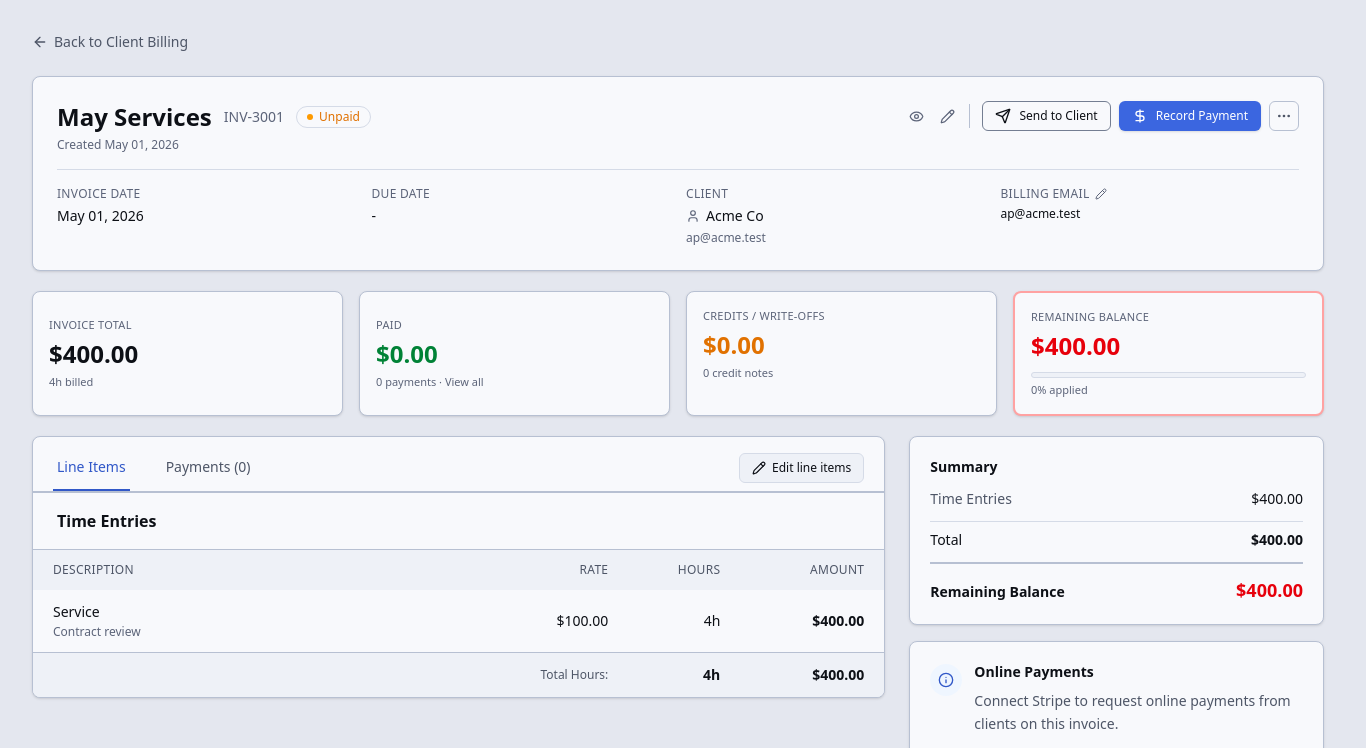
adding a credit note › will not submit a zero credit
This screenshot has width=1366, height=748.
Click the button named "More actions": {"x": 1284, "y": 116} [1269,101,1299,131]
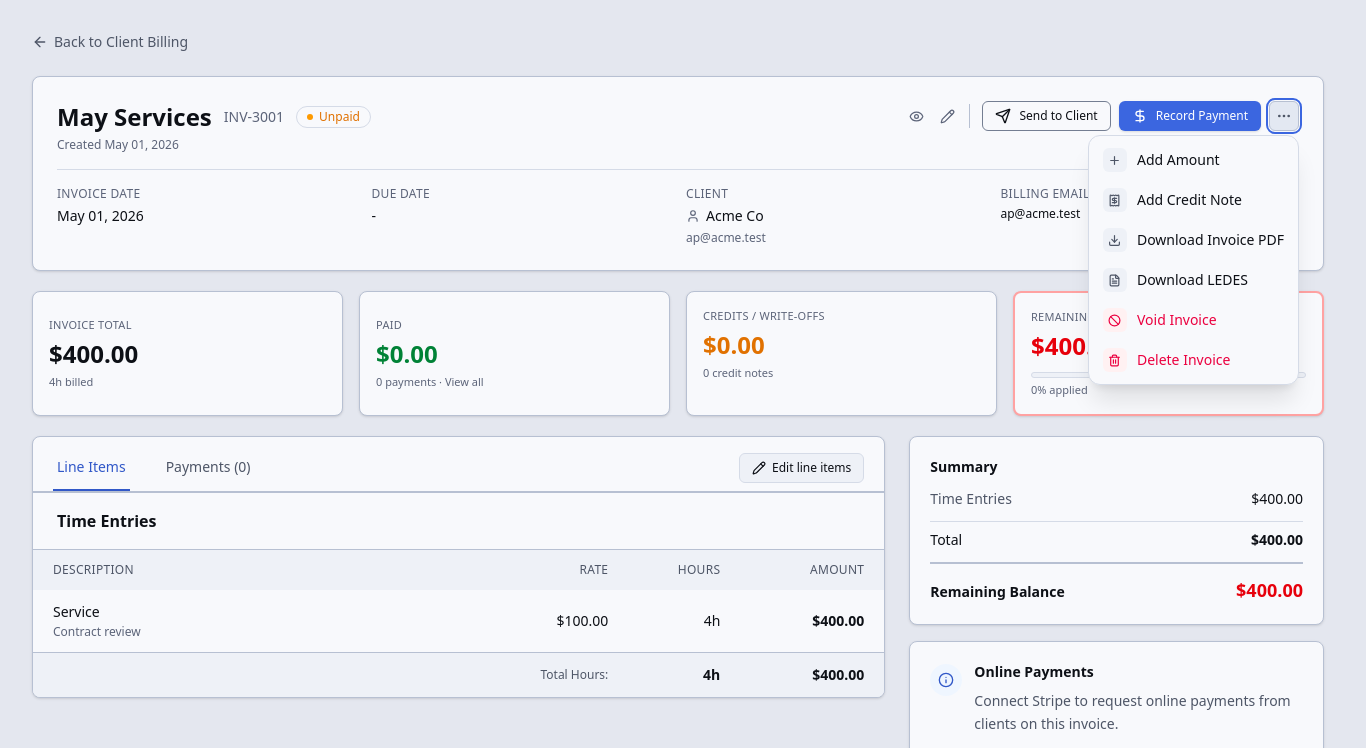
Click the button "Add Credit Note": {"x": 1193, "y": 200} [1093,180,1294,220]
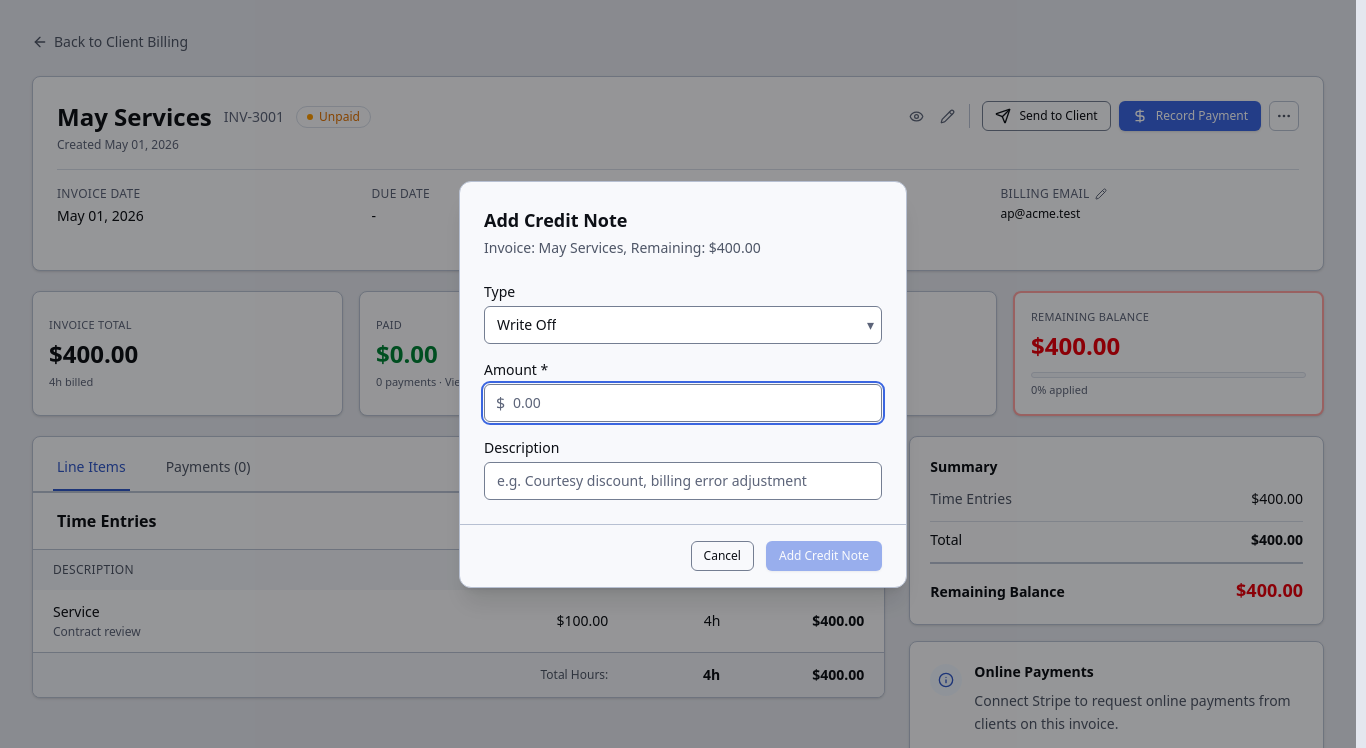
Expected: the button "Add Credit Note" is disabled, [766,540,882,570]
In the number field with placeholder "0.00": {"x": 683, "y": 402} [484,384,882,422], type "0"
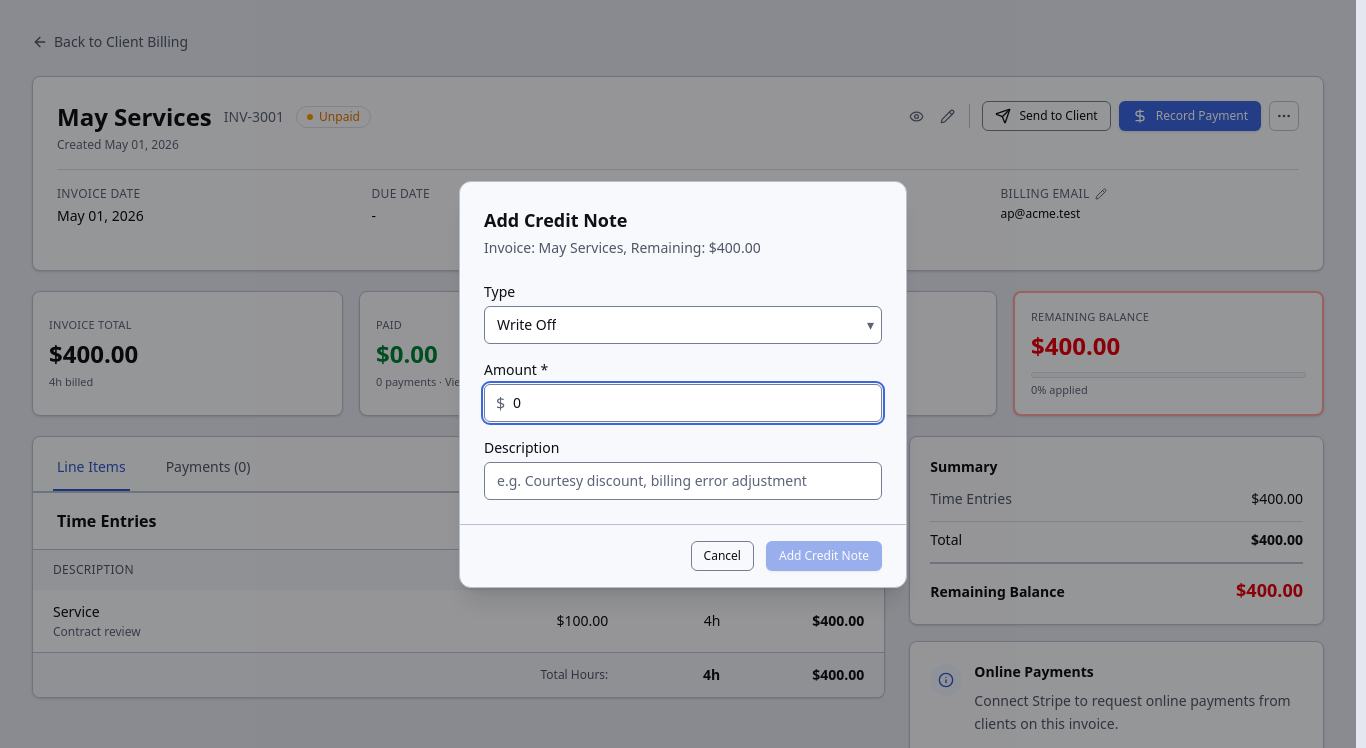
Expected: the button "Add Credit Note" is disabled, [766,540,882,570]
In the number field with placeholder "0.00": {"x": 683, "y": 402} [484,384,882,422], type ".01"
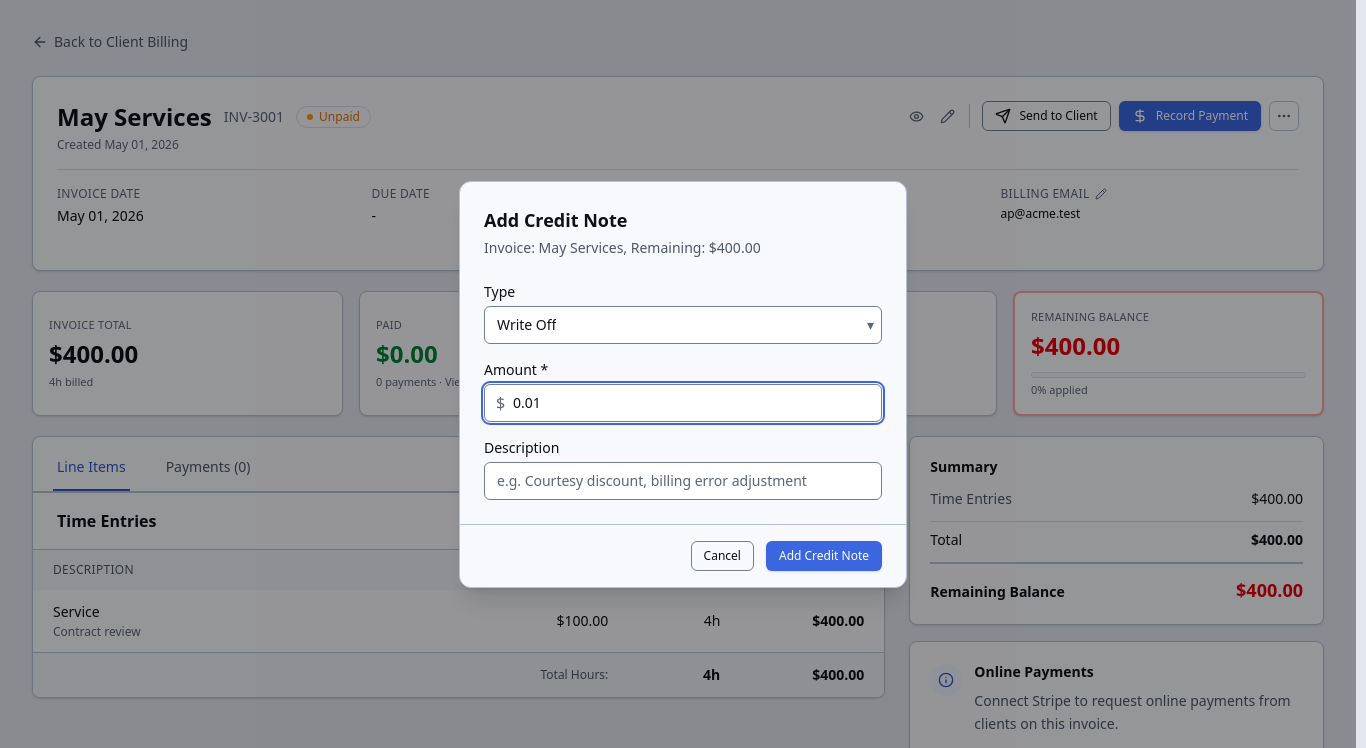
Expected: the button "Add Credit Note" is enabled, [766,540,882,570]
